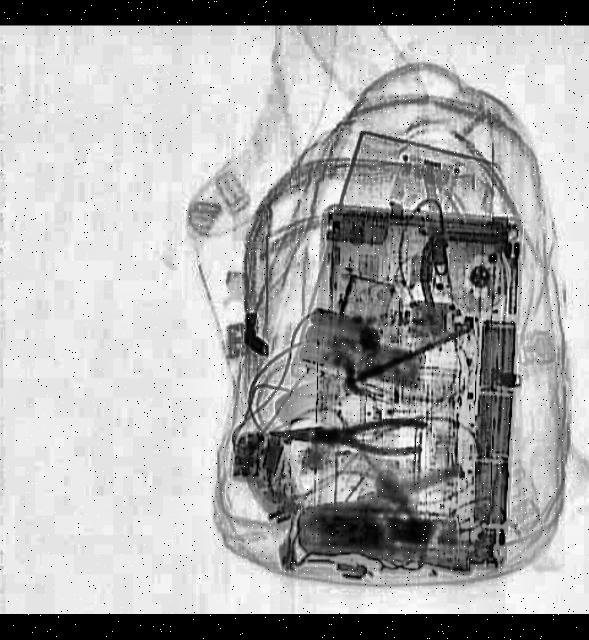Pliers: (264, 412, 425, 457)
